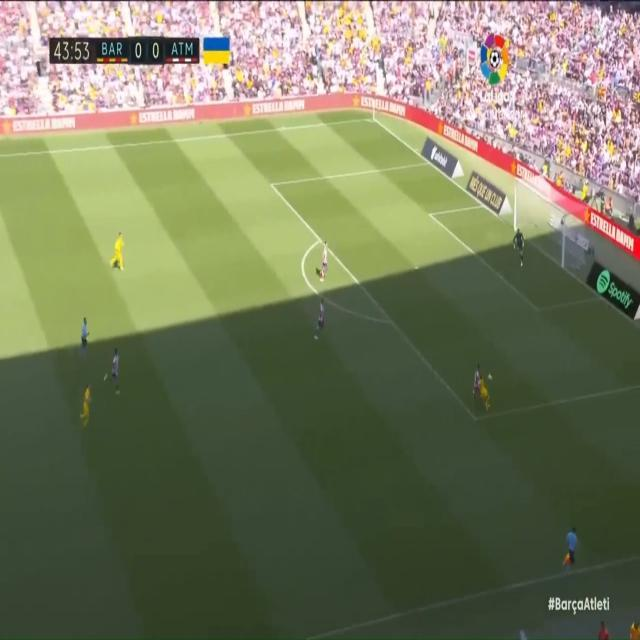ball: (485, 369, 495, 385)
goalkeeper: (512, 230, 526, 268)
player: (102, 342, 124, 400), (79, 381, 104, 432), (110, 223, 130, 277), (319, 236, 334, 288), (311, 295, 326, 341), (479, 377, 491, 414), (473, 367, 483, 406)
referee: (563, 523, 581, 578), (79, 311, 91, 355)
